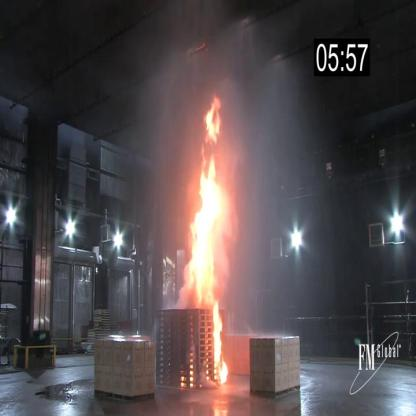fire: (184, 158, 226, 302), (206, 304, 230, 390), (203, 92, 227, 146)
